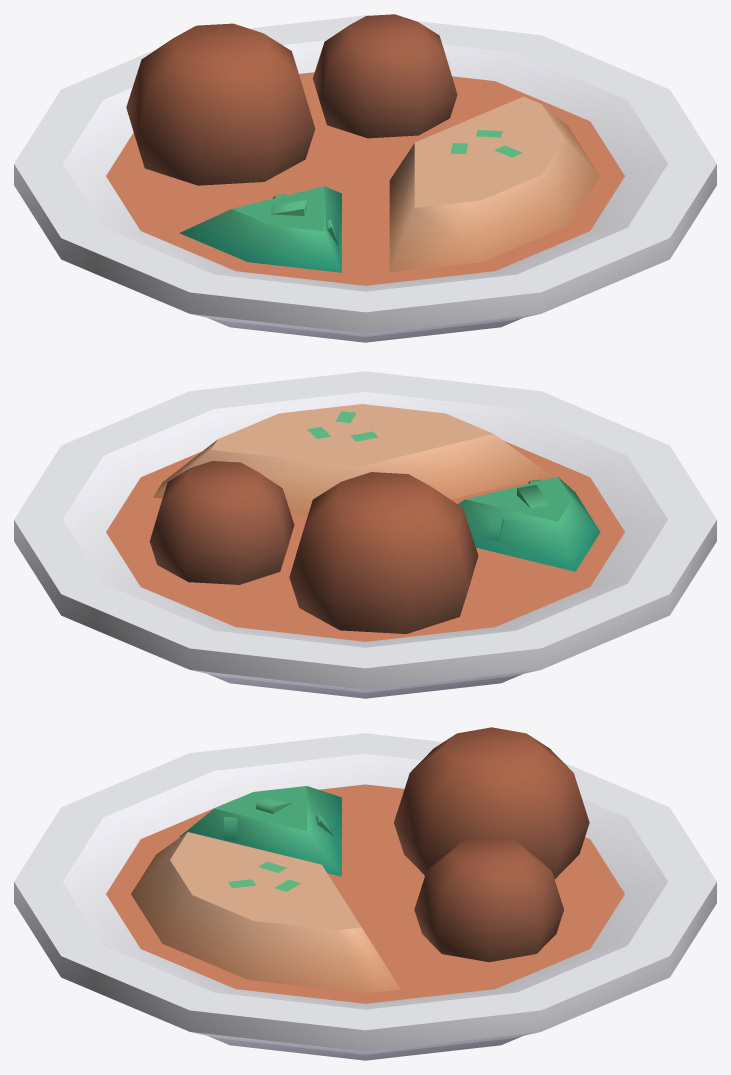
File: plate.glb
3 renders of one model, top to bottom at view 1: azimuth 30°, elevation 25°; view 2: azimuth 150°, elevation 25°; view 3: azimuth 270°, elevation 25°, orthographic.
Visible parts, largest first — view 1: plate-dinner; view 2: plate-dinner; view 3: plate-dinner.
Boxes of the visible parts, x1=… form: plate-dinner: x1=14, y1=14, x2=716, y2=342; plate-dinner: x1=14, y1=371, x2=716, y2=698; plate-dinner: x1=14, y1=727, x2=716, y2=1060.
Size of the model in its own units: 0.27 by 0.067 by 0.27.
1 material, 1 textured.
